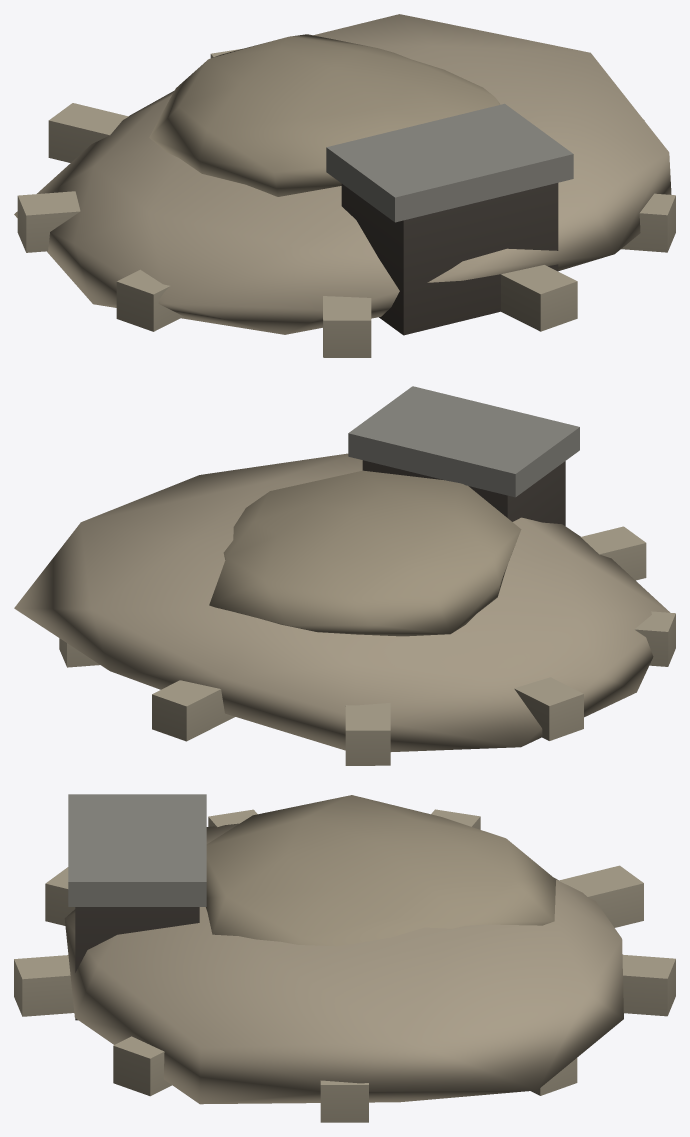
Rendered from m_tunnel_2bc4b705.glb.
The picture shows the model from 3 angles, top to bottom: view 1: azimuth 30°, elevation 25°; view 2: azimuth 150°, elevation 25°; view 3: azimuth 270°, elevation 25°; orthographic projection. The views are drawn at different scales.
Parts seen in each view (by area): view 1: mesh; view 2: mesh; view 3: mesh.
Part boxes in pixels (box(x1,y1,x2,y2)): mesh: box(14, 14, 675, 357); mesh: box(14, 386, 675, 765); mesh: box(14, 794, 675, 1122).
Size of the model in its own units: 47.16 by 13.03 by 47.88.
